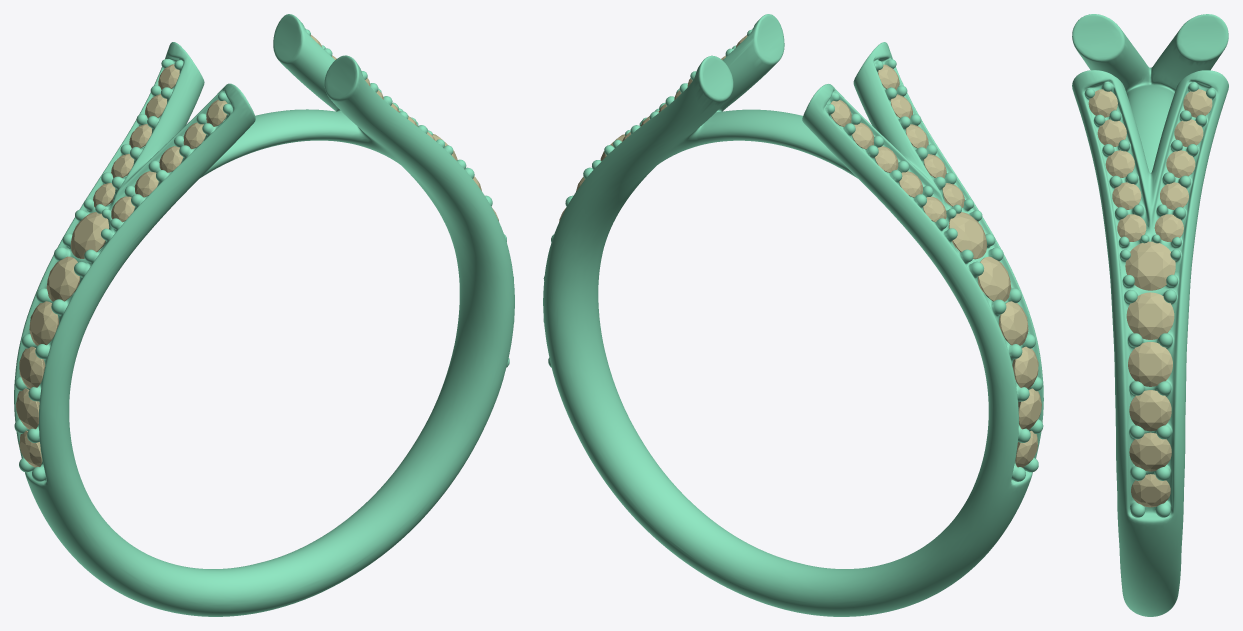
The picture shows the model from 3 angles, left to right: view 1: azimuth 30°, elevation 25°; view 2: azimuth 150°, elevation 25°; view 3: azimuth 270°, elevation 25°; orthographic projection.
Parts seen in each view (by area): view 1: Metal02, Diamond_Gem.015, Diamond_Gem.014, Diamond_Gem.010, Diamond_Gem.013, Diamond_Gem.012; view 2: Metal02, Diamond_Gem.015, Diamond_Gem.014, Diamond_Gem.010, Diamond_Gem.013, Diamond_Gem.012; view 3: Metal02, Diamond_Gem.016, Diamond_Gem.017, Diamond_Gem.021, Diamond_Gem.018, Diamond_Gem.019, Diamond_Gem.020, Diamond_Gem.027, Diamond_Gem.026, Diamond_Gem.024, Diamond_Gem.025, Diamond_Gem.029 (+5 smaller).
Boxes of the visible parts, box(x1,y1,x2,y2) form: Metal02: box(14, 14, 514, 616); Diamond_Gem.015: box(70, 212, 109, 258); Diamond_Gem.014: box(46, 256, 79, 301); Diamond_Gem.010: box(29, 301, 58, 345); Diamond_Gem.013: box(19, 346, 45, 388); Diamond_Gem.012: box(15, 388, 39, 429); Metal02: box(543, 14, 1043, 616); Diamond_Gem.015: box(948, 212, 987, 259); Diamond_Gem.014: box(977, 256, 1011, 301); Diamond_Gem.010: box(999, 301, 1028, 345); Diamond_Gem.013: box(1012, 346, 1038, 388); Diamond_Gem.012: box(1018, 388, 1041, 429); Metal02: box(1072, 14, 1228, 616); Diamond_Gem.016: box(1125, 241, 1175, 290); Diamond_Gem.017: box(1126, 292, 1174, 339); Diamond_Gem.021: box(1128, 342, 1172, 386); Diamond_Gem.018: box(1129, 390, 1171, 431); Diamond_Gem.019: box(1129, 432, 1171, 471); Diamond_Gem.020: box(1131, 474, 1170, 507); Diamond_Gem.027: box(1166, 150, 1195, 177); Diamond_Gem.026: box(1105, 150, 1134, 177); Diamond_Gem.024: box(1112, 182, 1141, 209); Diamond_Gem.025: box(1117, 214, 1146, 241); Diamond_Gem.029: box(1160, 182, 1188, 209).
Bounding box in the file's own units: 20.84 × 22.87 × 5.92.
